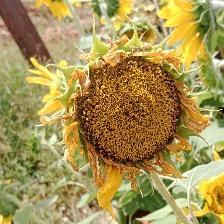sunflower: (31, 14, 224, 195)
